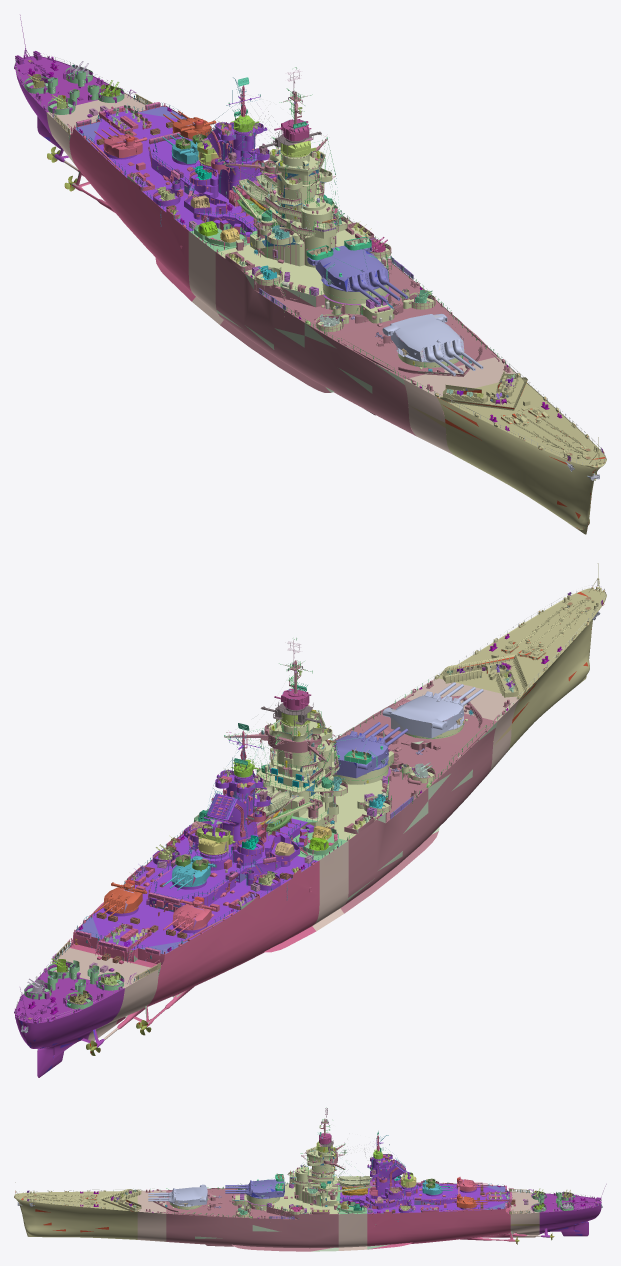
File: ship.glb
3 renders of one model, top to bottom at view 1: azimuth 30°, elevation 25°; view 2: azimuth 150°, elevation 25°; view 3: azimuth 270°, elevation 25°, orthographic. The views are drawn at different scales.
Parts seen in each view (by area): view 1: 000-0-29983; view 2: 000-0-29983; view 3: 000-0-29983.
Boxes of the visible parts, x1,y1,x2,y2 form: 000-0-29983: (14, 15, 606, 534); 000-0-29983: (14, 563, 606, 1077); 000-0-29983: (14, 1107, 606, 1251).
Size of the model in its own units: 22.22 by 40.51 by 167.
Materials: 1 (1 with a texture image).
